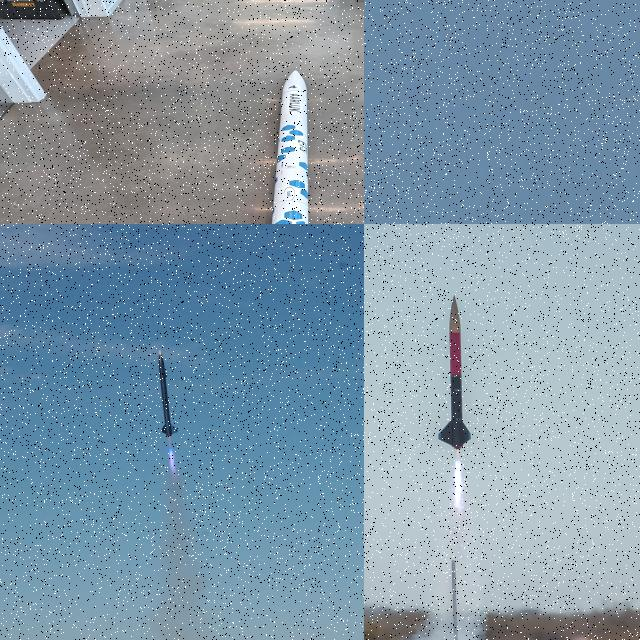Rocket: (271, 69, 309, 224), (438, 294, 472, 452), (157, 349, 179, 437)
